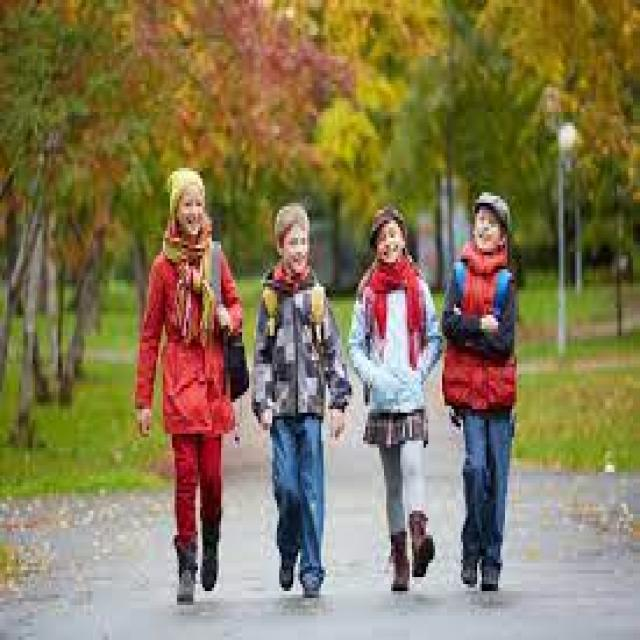Person: (134, 168, 248, 602), (252, 202, 349, 598), (348, 203, 444, 591), (442, 193, 518, 592)
